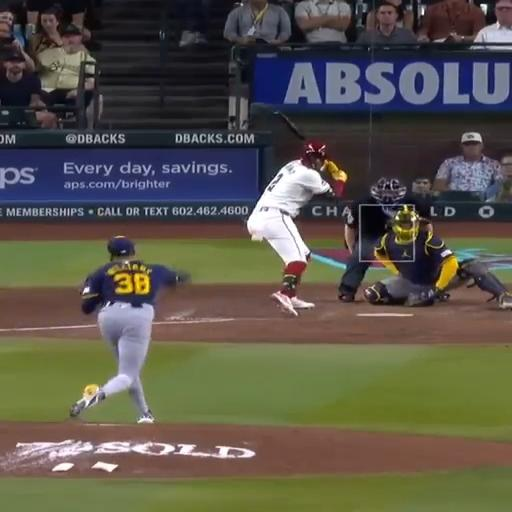bat: (273, 111, 305, 140)
